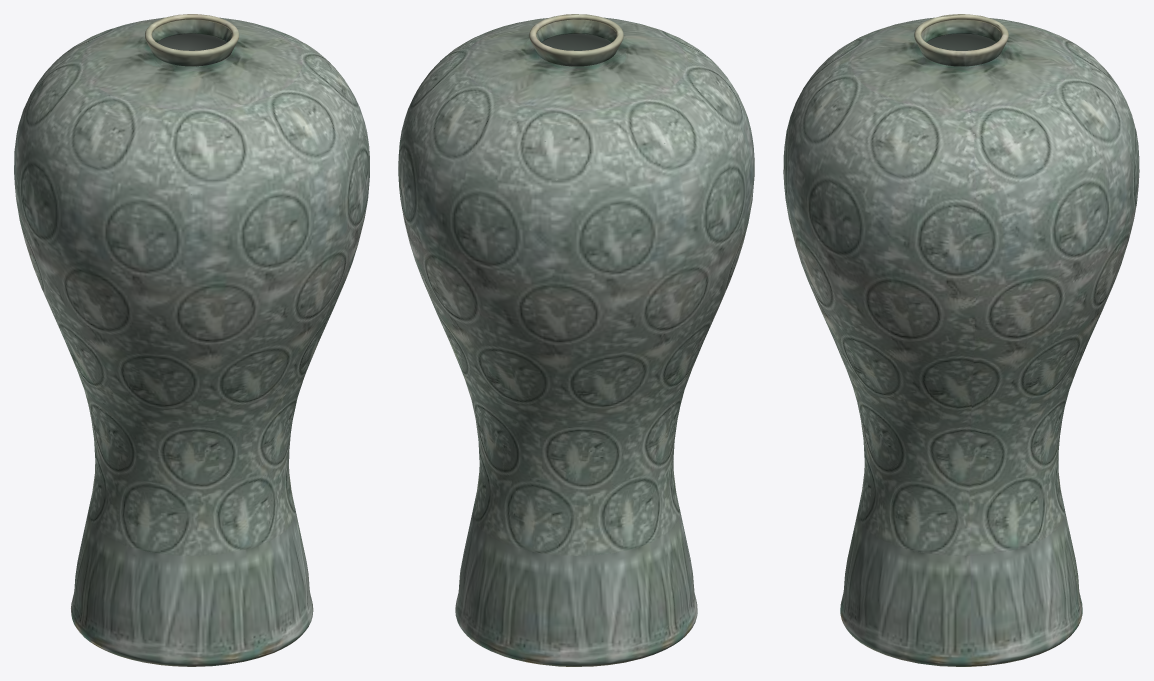
Rendered from celadon-maebyeong-v2.glb.
3 views of the same model, side by side, from view 1: azimuth 30°, elevation 25°; view 2: azimuth 150°, elevation 25°; view 3: azimuth 270°, elevation 25° (orthographic).
Parts seen in each view (by area): view 1: Celadon_PhotoReference_Recreation; view 2: Celadon_PhotoReference_Recreation; view 3: Celadon_PhotoReference_Recreation.
Boxes of the visible parts, <box> form: Celadon_PhotoReference_Recreation: <box>14,14,369,666</box>; Celadon_PhotoReference_Recreation: <box>398,14,754,666</box>; Celadon_PhotoReference_Recreation: <box>783,14,1139,666</box>.
Size of the model in its own units: 0.2325 by 0.421 by 0.2325.
Materials: 1 (1 with a texture image).
